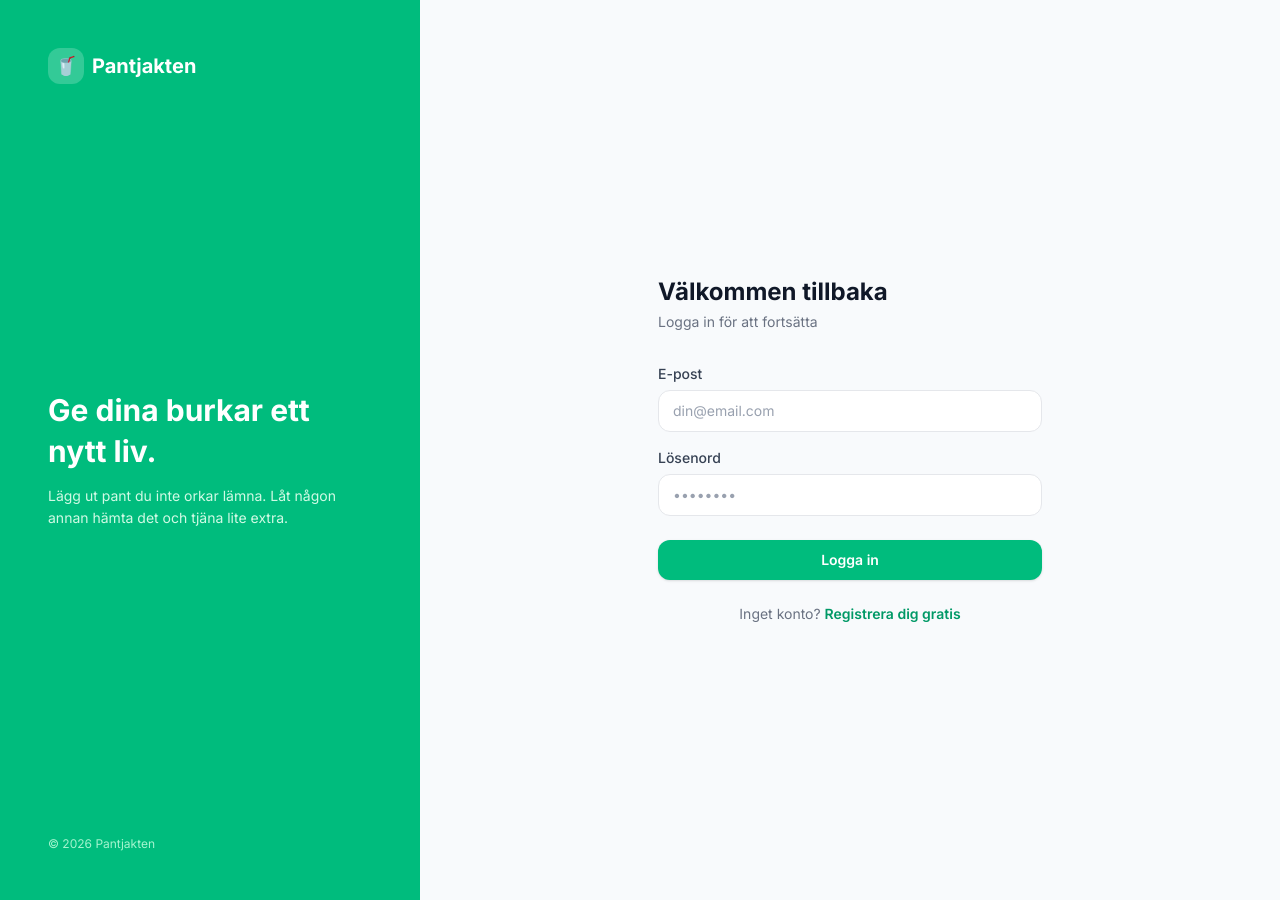
Test case: LoginPage › shows an error message when login fails
Step 1. Type "test@example.com" into the field with placeholder "din@email.com" → [850, 411], box [658,390,1042,432]
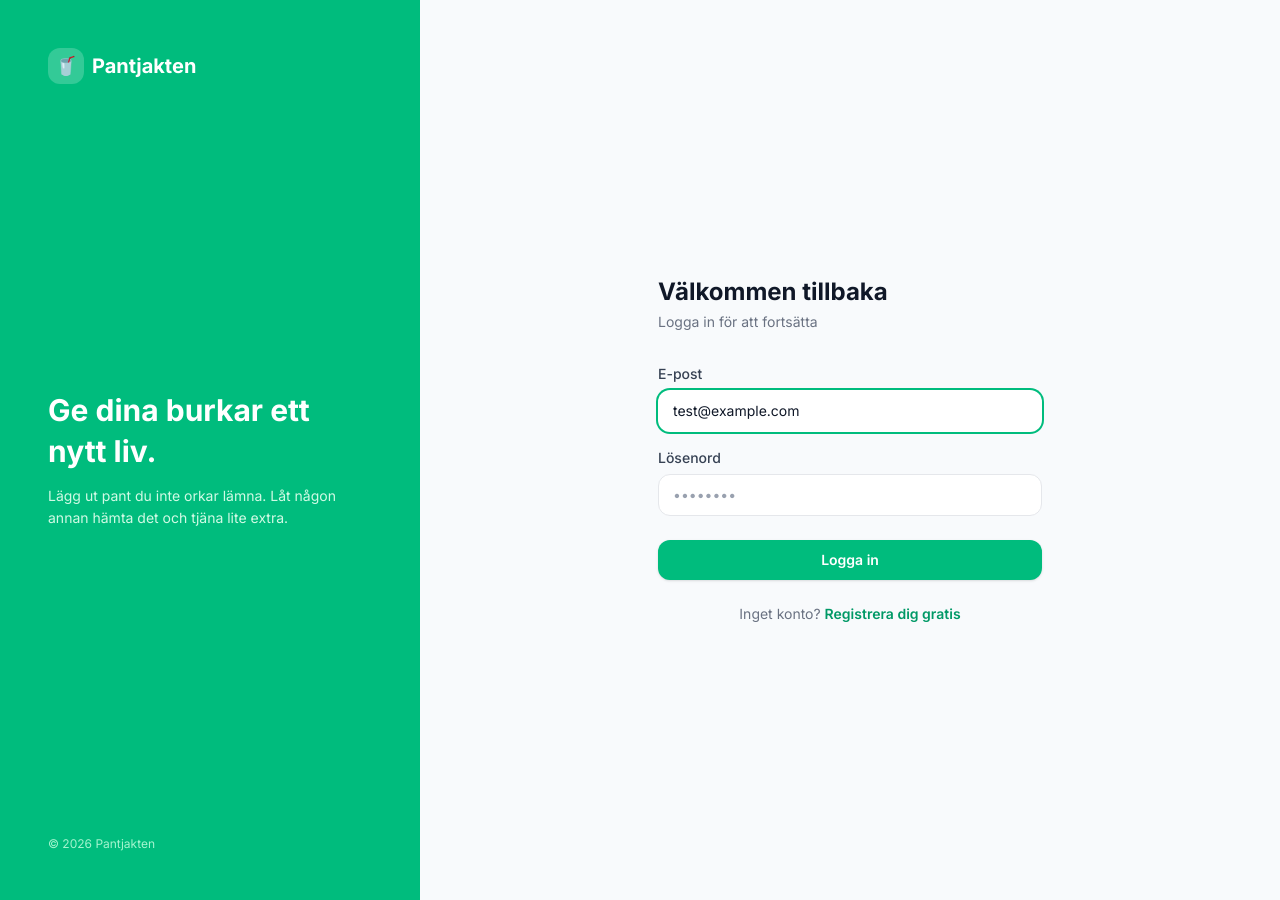
Step 2. Type "password123" into the password field with placeholder "••••••••" → [850, 495], box [658,474,1042,516]
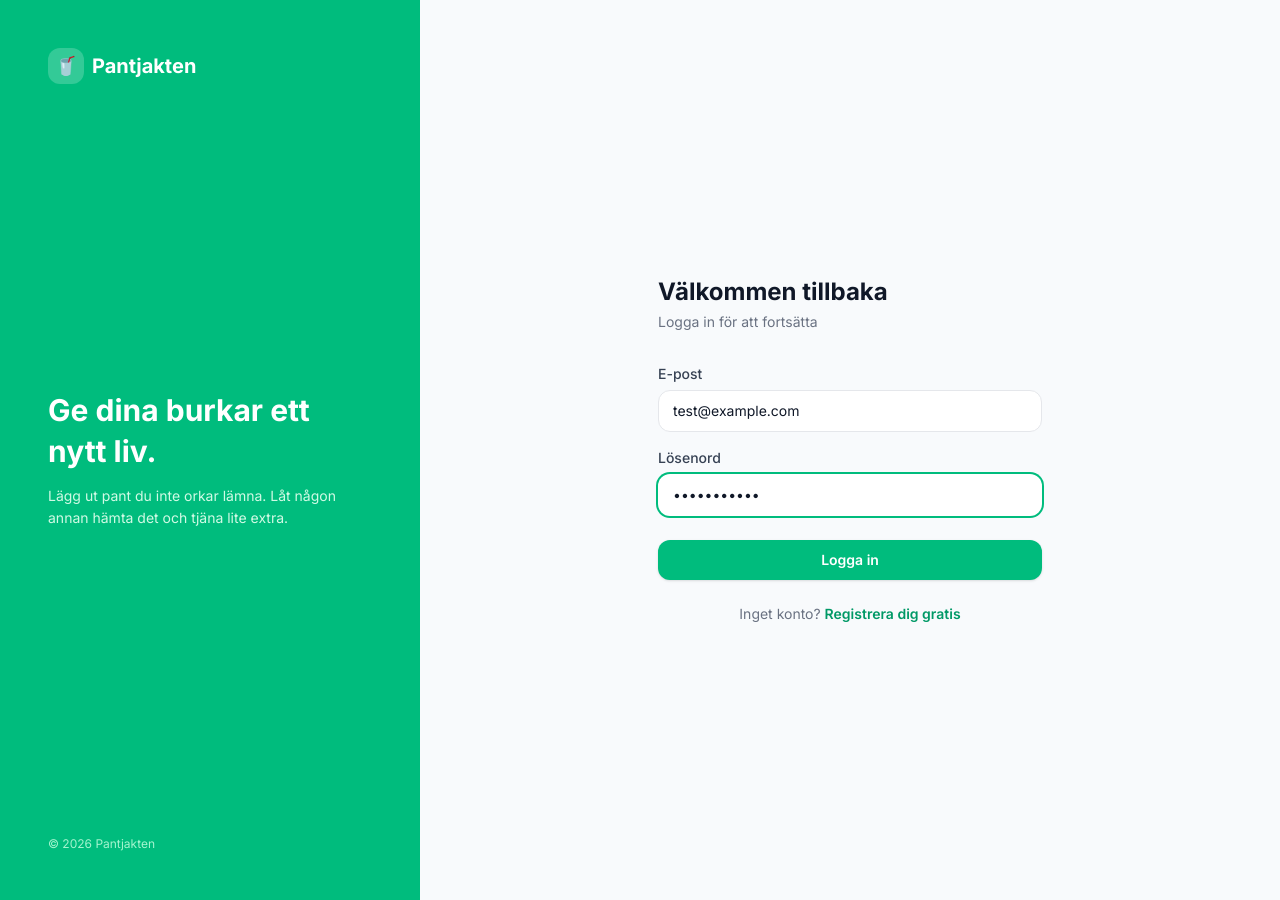
Step 3. Click the button "Logga in" → [850, 560], box [658,540,1042,580]
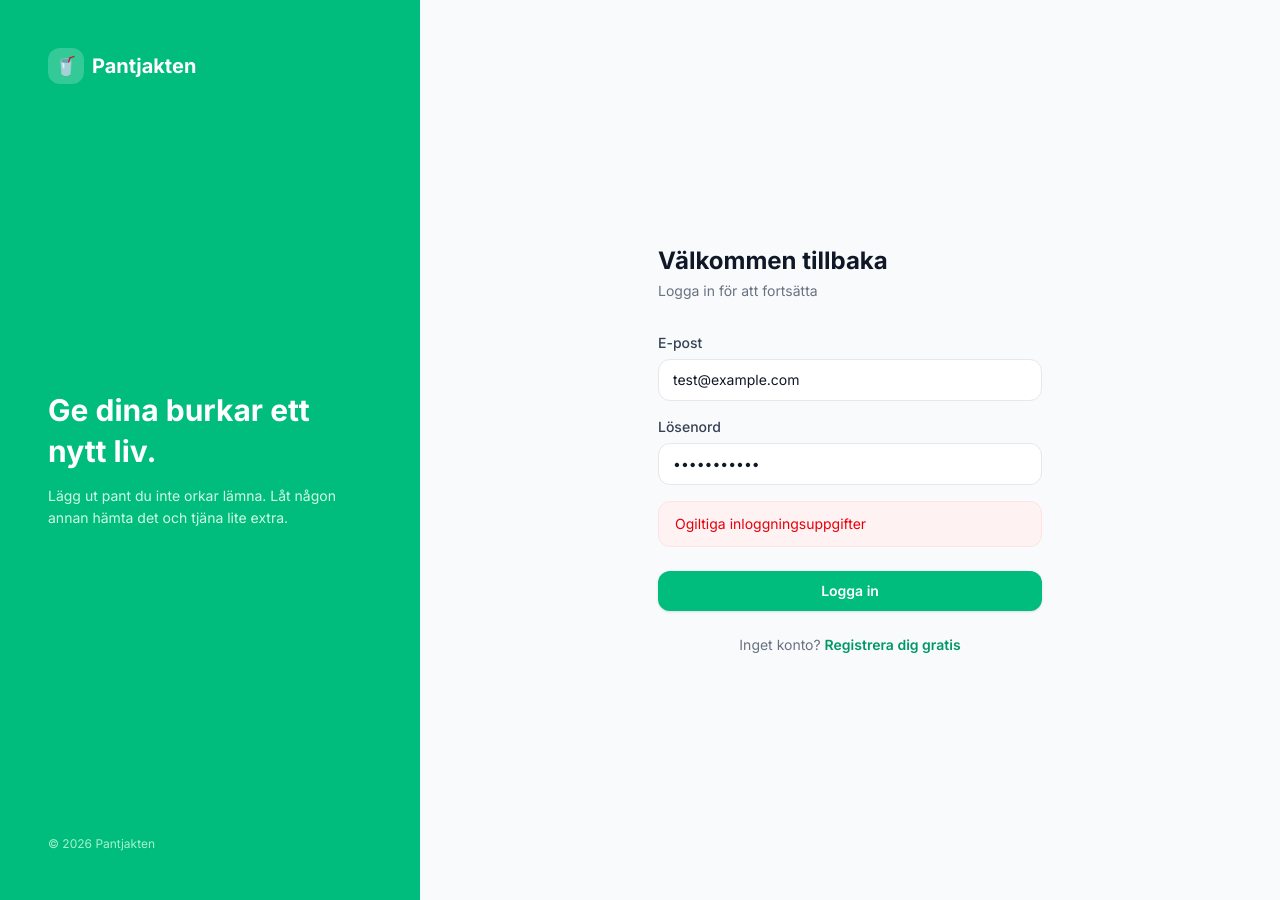
Expected: the text "Ogiltiga inloggningsuppgifter" is shown, [658,501,1042,547]
